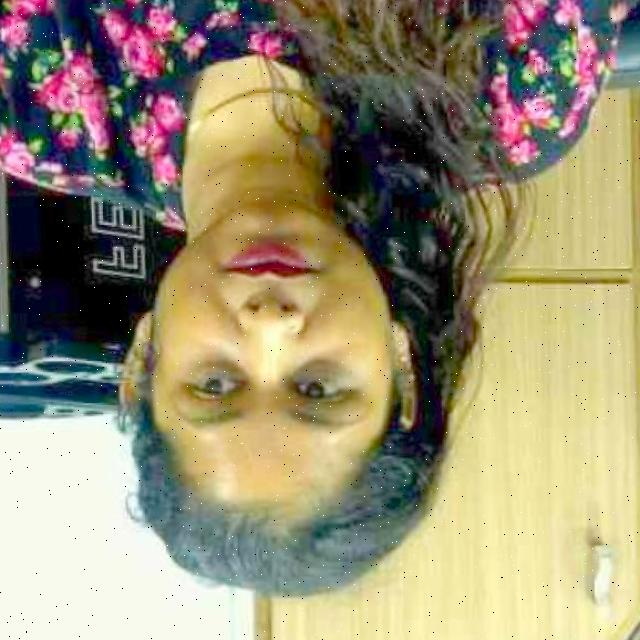puffy_eyes: (290, 362, 350, 390), (192, 360, 247, 388)
